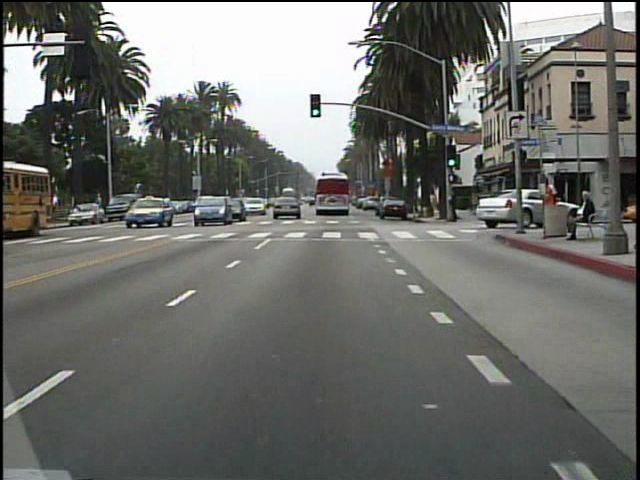person: (564, 185, 593, 240), (539, 175, 559, 235), (447, 185, 461, 224)
